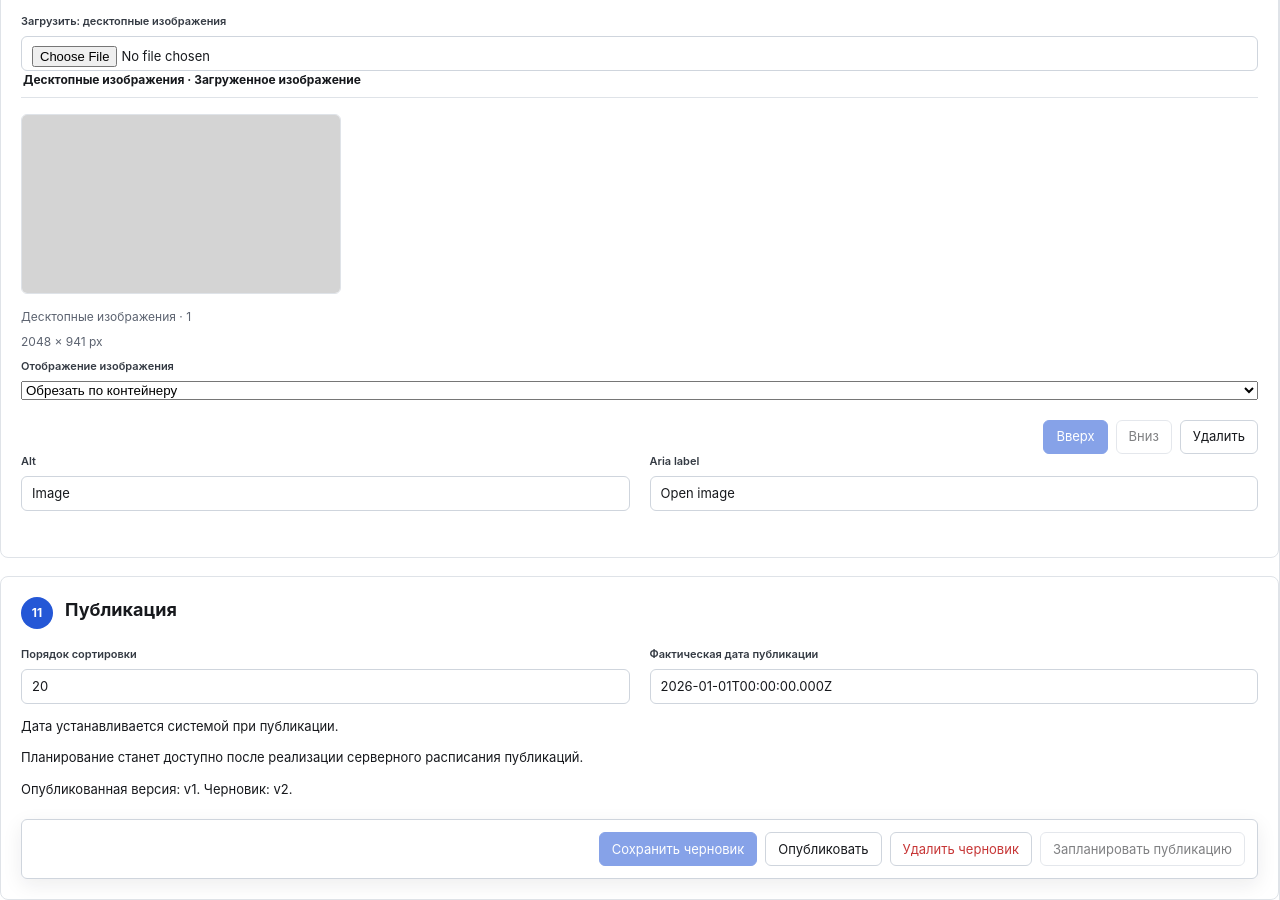
Scenario: ProjectInspector media corrective QA › accepts an HTTPS link for publish and preserves backend error fallback
(page scrolled)
Click the button "Опубликовать". click: {"x": 823, "y": 849}
box: [765, 832, 882, 866]
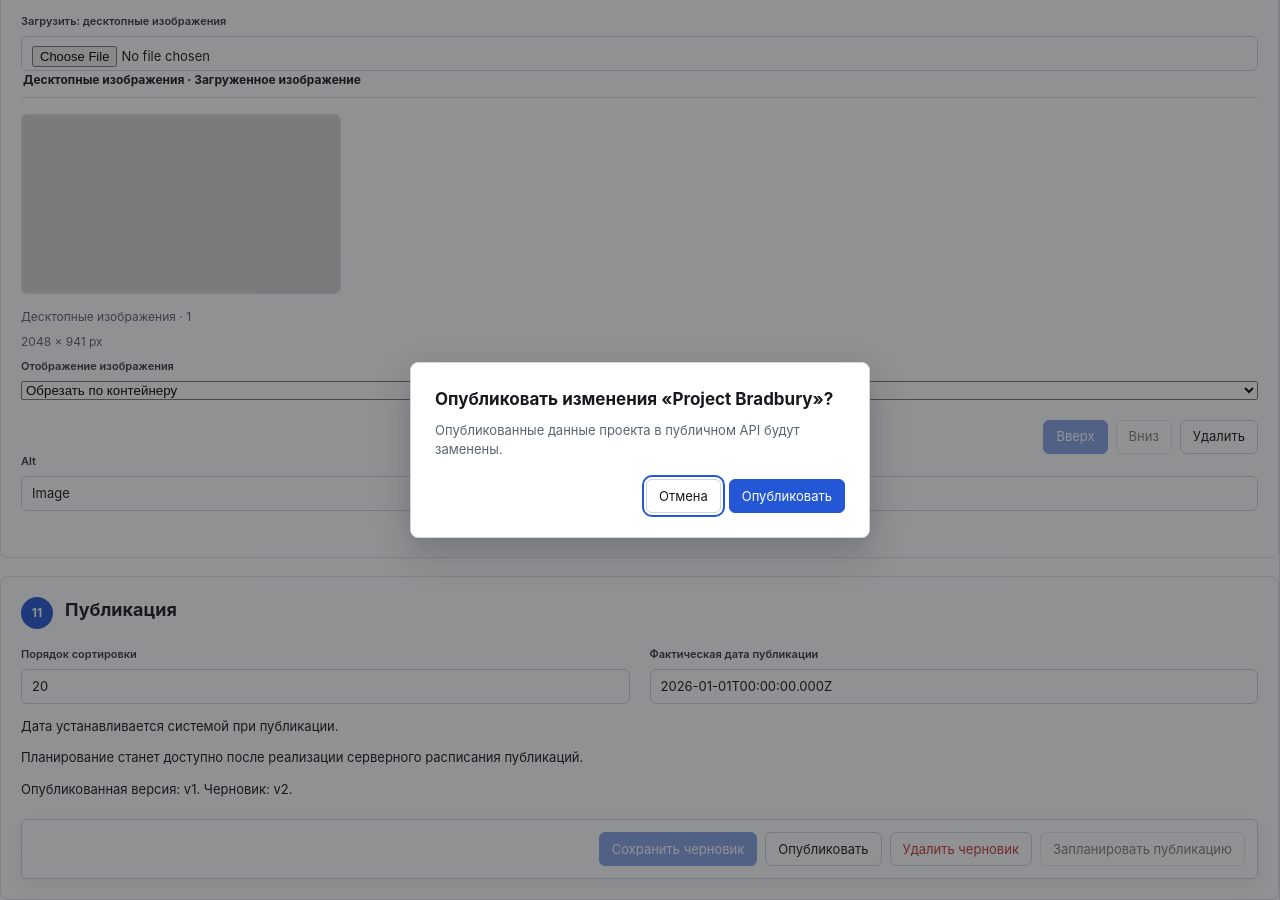
Expected: the dialog "Опубликовать изменения" is shown, [410, 362, 870, 538]
Click the button "Опубликовать". click: {"x": 787, "y": 496}
box: [729, 479, 845, 513]
(page scrolled)
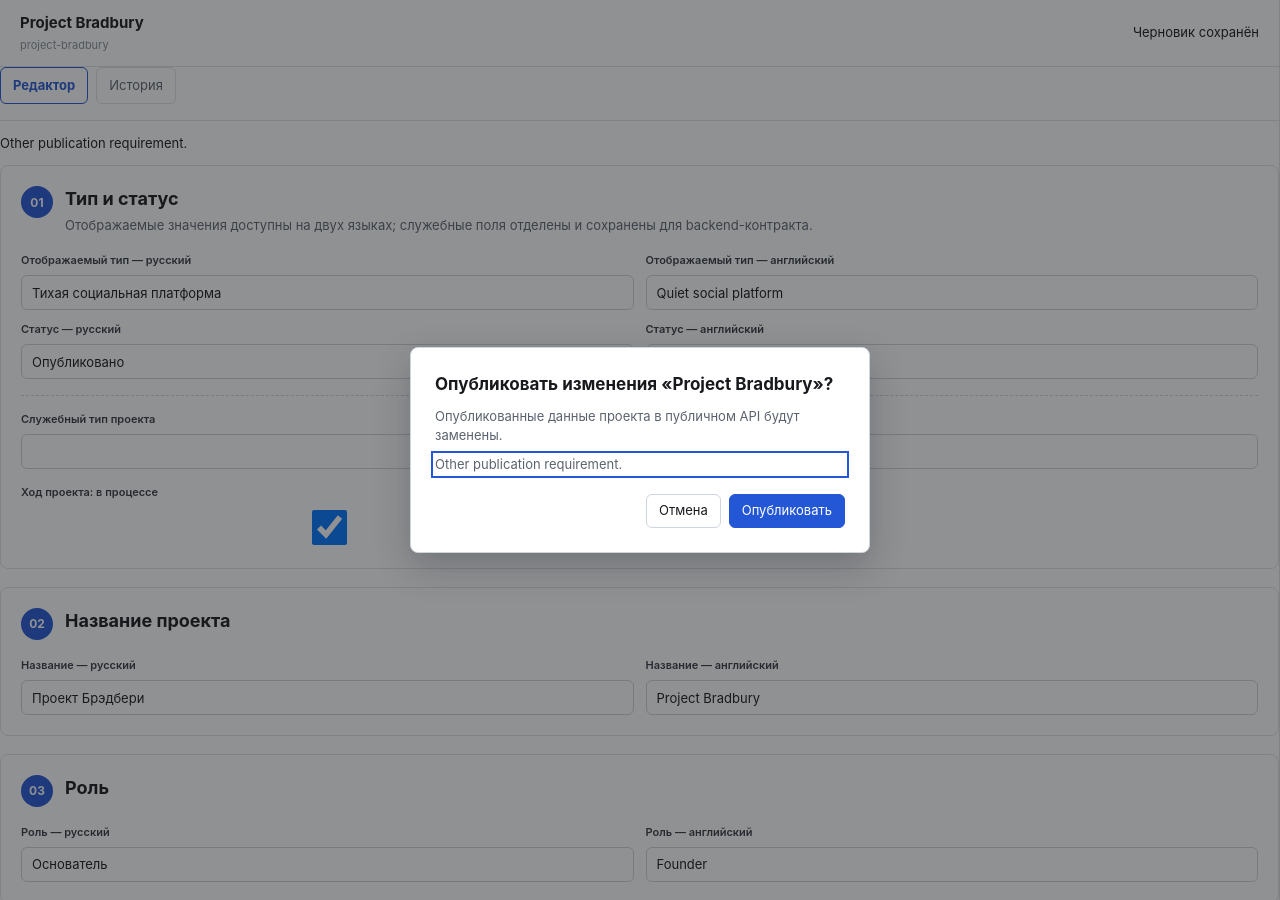
Expected: the text "Other publication requirement." is shown, [0, 134, 187, 150]
